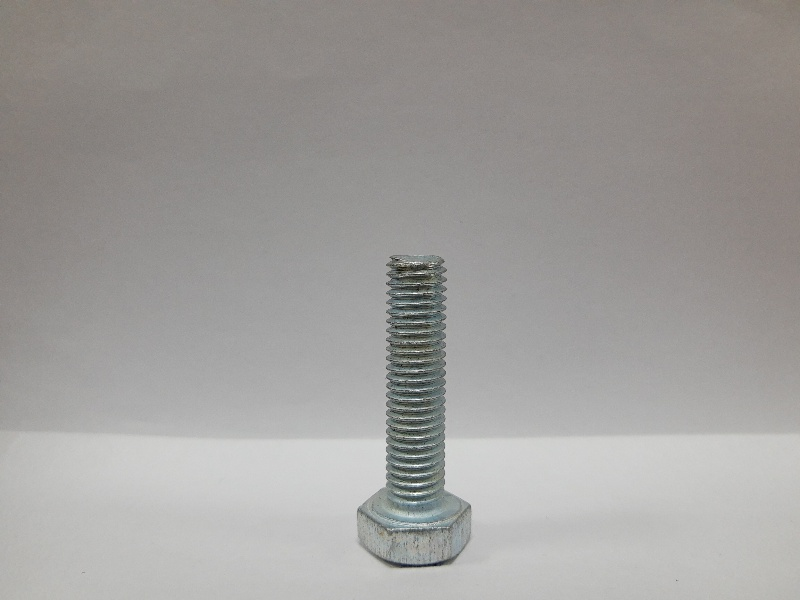pf: (354, 250, 476, 570)
